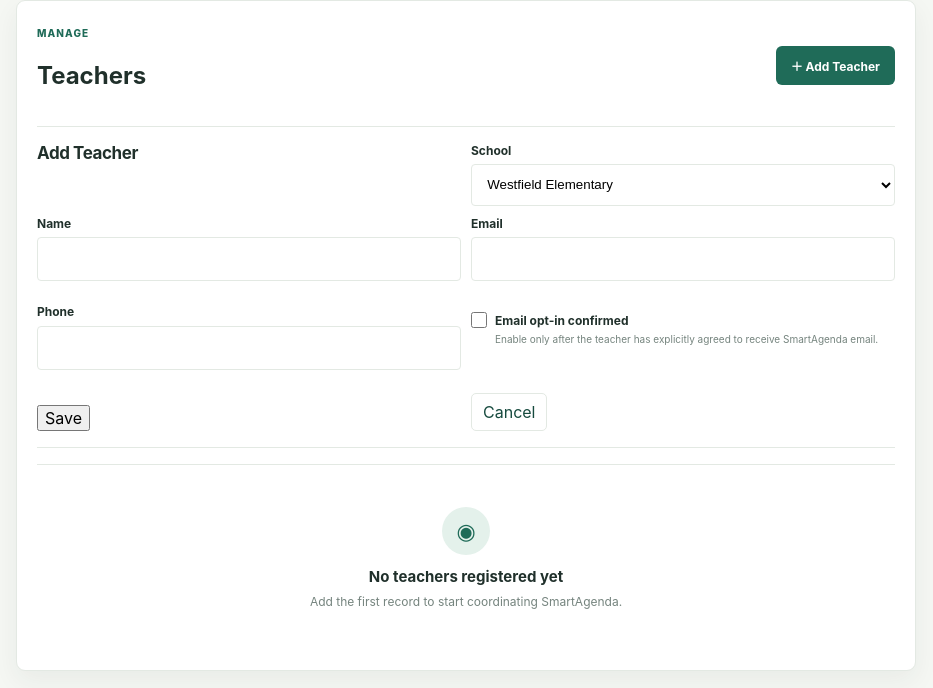
Test: preselects source School and notifies the caller after Teacher creation
Expected: the form with test id "add-Teachers-form" is shown, x1=37 y1=126 x2=895 y2=448
Expected: the dropdown labelled "School" shows "Westfield Elementary", x1=471 y1=164 x2=895 y2=206
Step 1. Type "Mariela Garcia" into the field labelled "Name" → coordinates (249, 259), box x1=37 y1=237 x2=461 y2=281
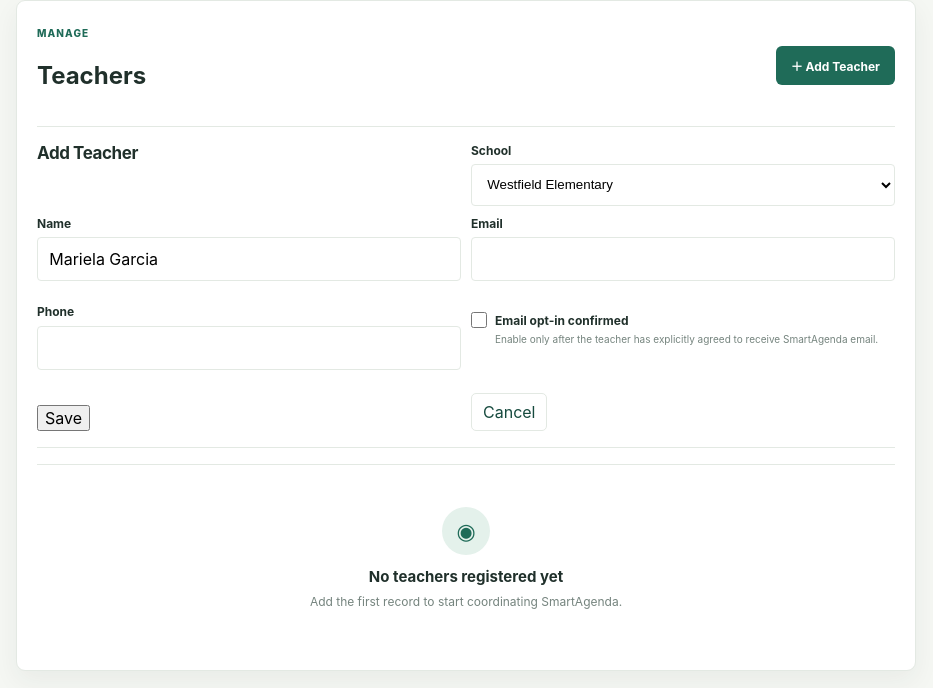
Step 2. Type "mariela@example.test" into the field labelled "Email" → coordinates (683, 259), box x1=471 y1=237 x2=895 y2=281
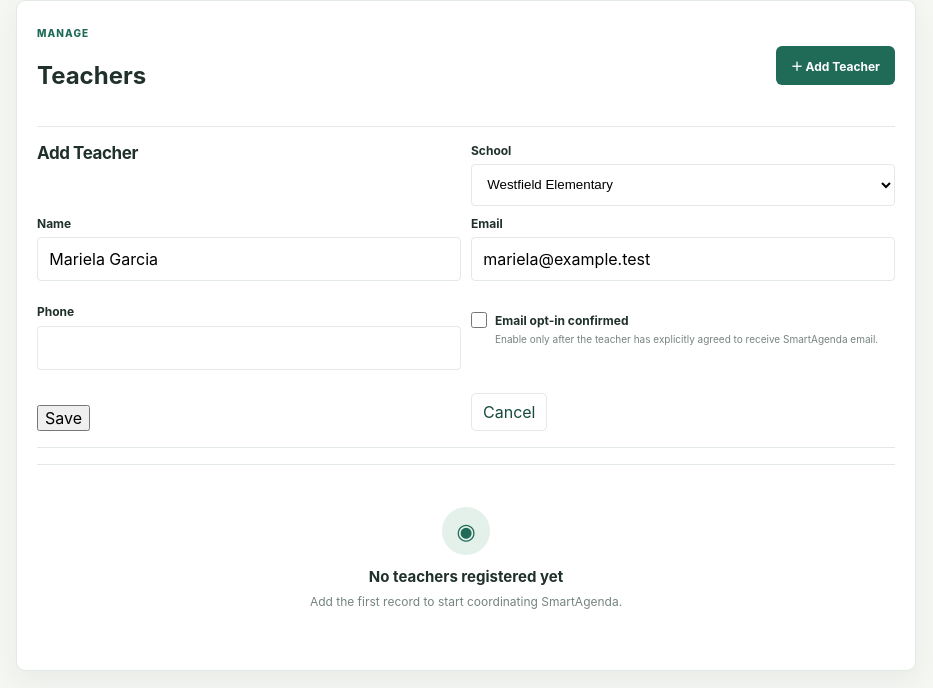
Step 3. Click the button "Save" → coordinates (64, 418), box x1=37 y1=405 x2=90 y2=431
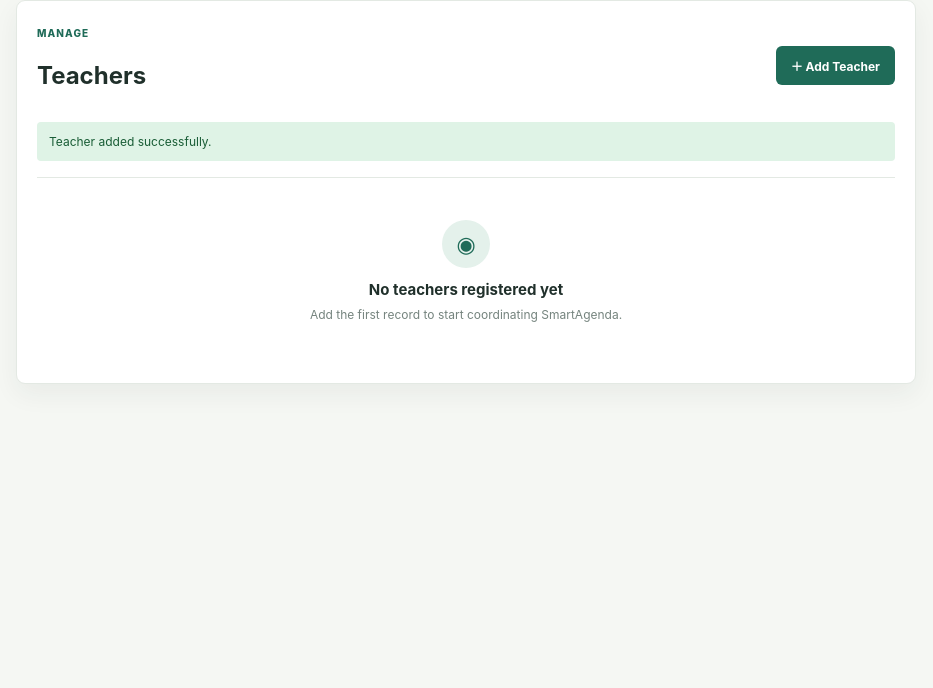
Result: the message reads "Teacher added successfully." at x1=49 y1=134 x2=212 y2=149
